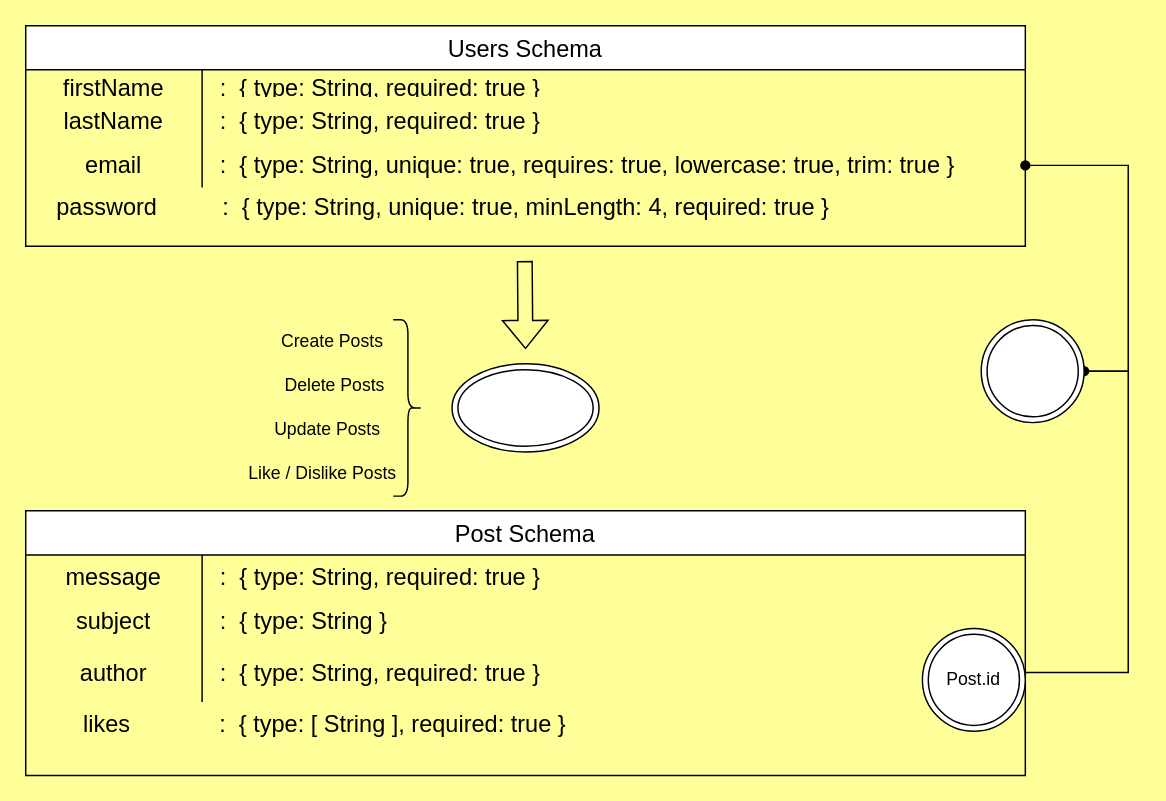
Some shapes in this 1166 by 801 pixel diagram are drawn without their labels. Here are the shapes that lost their labels. From the top down, the centre of each, then its label:
At (1032,370): "User_id".
At (525,407): "CRUD".
